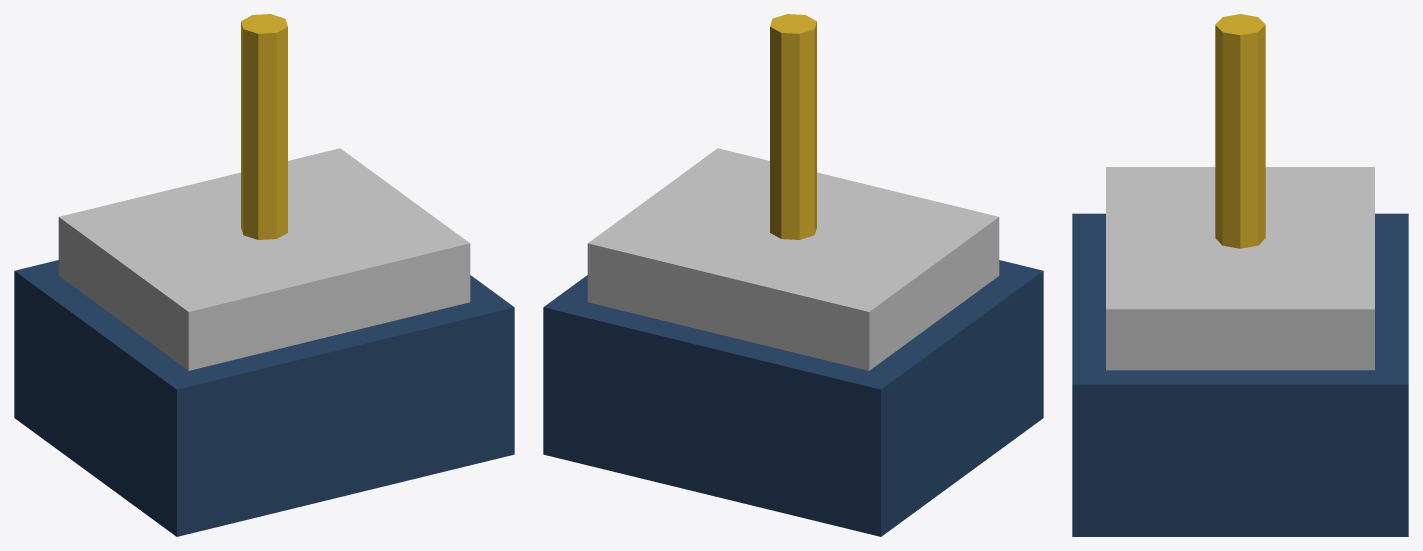
File: rwr_module.obj
3 renders of one model, left to right at view 1: azimuth 30°, elevation 25°; view 2: azimuth 150°, elevation 25°; view 3: azimuth 270°, elevation 25°, orthographic. The views are drawn at different scales.
Parts seen in each view (by area): view 1: rwr_module; view 2: rwr_module; view 3: rwr_module.
Boxes of the visible parts, left/top/right/bottom form: rwr_module: left=14, top=14, right=514, bottom=536; rwr_module: left=543, top=14, right=1043, bottom=536; rwr_module: left=1072, top=14, right=1408, bottom=536.
Bounding box in the file's own units: 0.24 × 0.28 × 0.2.
